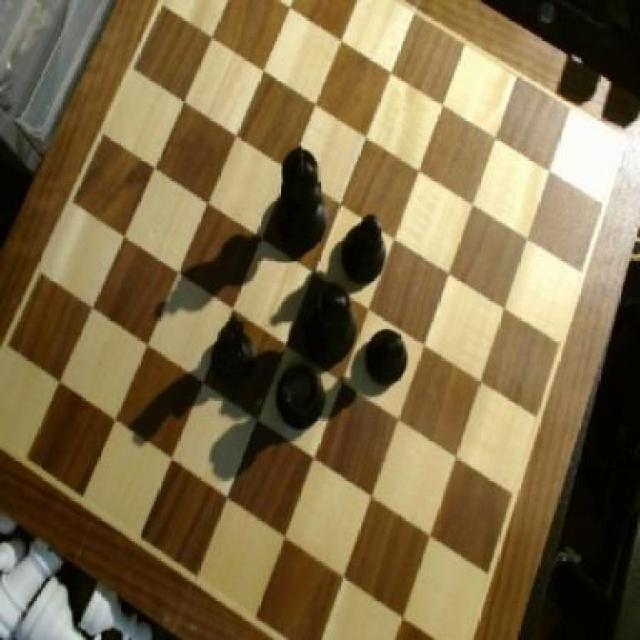bishop: (340, 208, 389, 289)
black-bishop: (282, 148, 332, 248)
black-king: (211, 306, 266, 408)
black-knight: (366, 328, 412, 392)
black-pawn: (307, 277, 358, 358)
black-queen: (275, 357, 331, 435)
